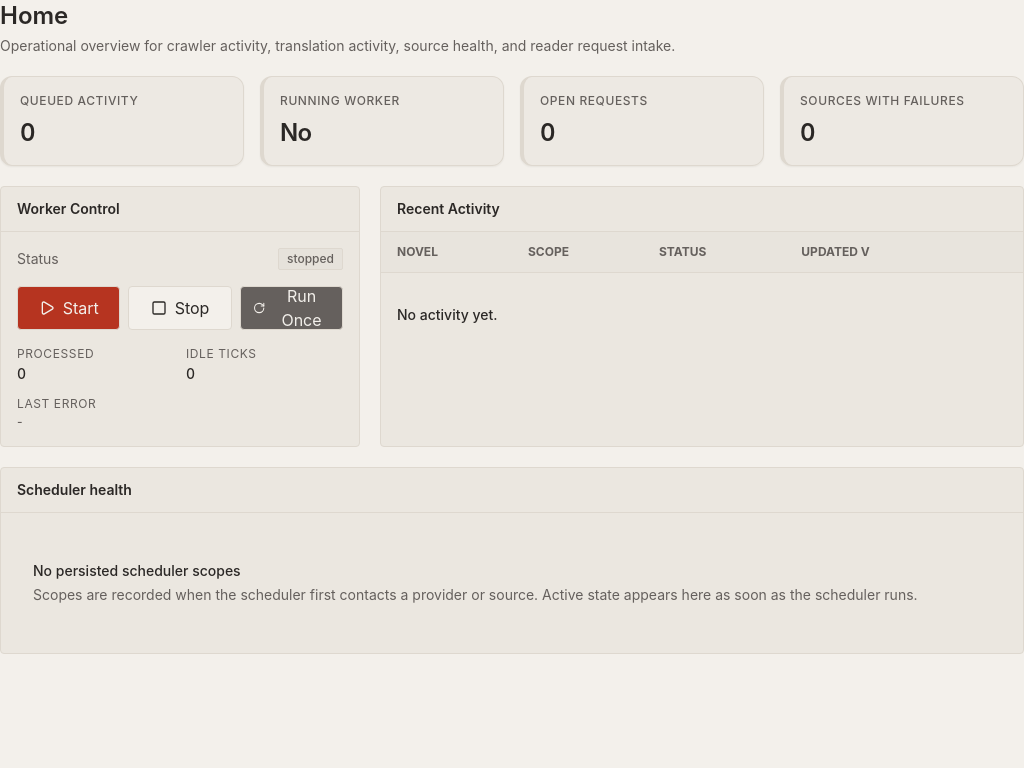
Test: admin dashboard safety › requires confirmation before stopping the worker
Click the button "Stop" at {"x": 180, "y": 308}, box [128, 286, 232, 330]
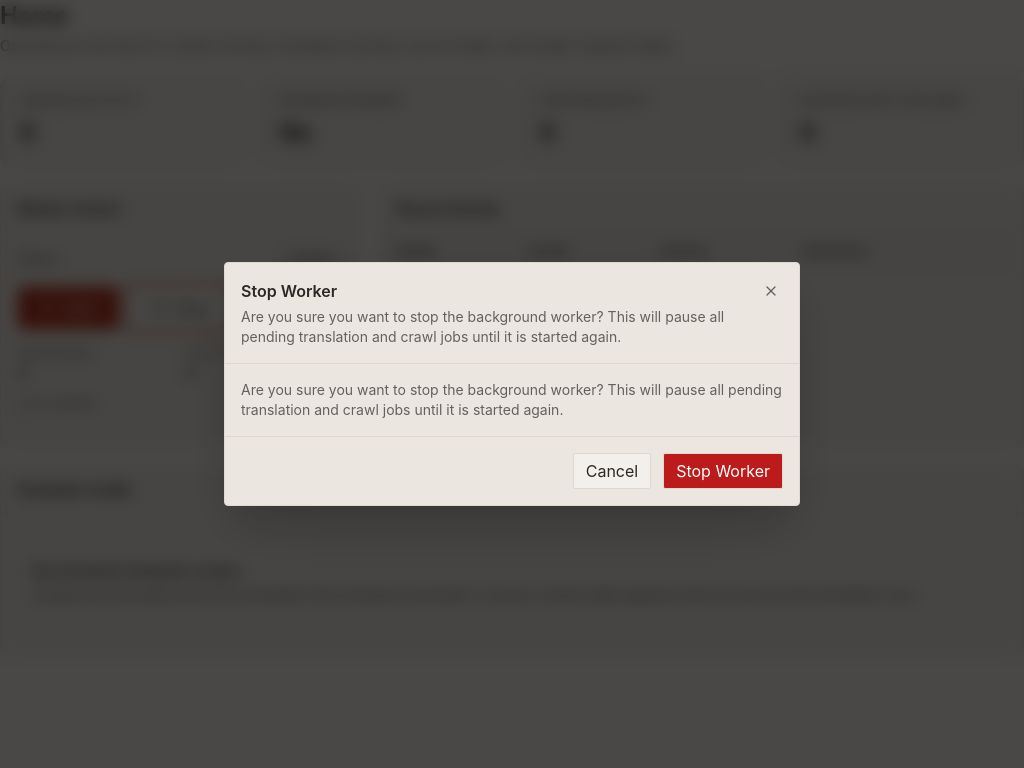
Expected: the heading "Stop Worker" is shown, [241, 281, 337, 301]
Expected: the 1st text "pause all pending translation and crawl jobs" is shown, [241, 308, 724, 345]
Click the button "Cancel" at {"x": 612, "y": 471}, box [573, 453, 651, 489]
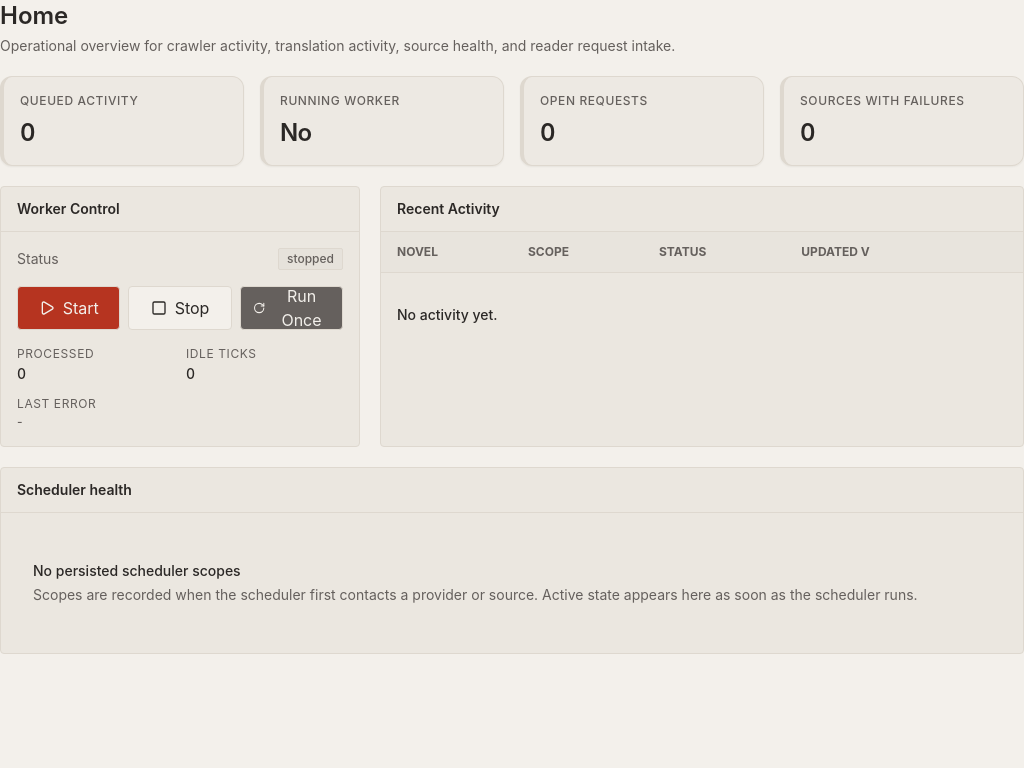
Expected: the heading "Stop Worker" is gone
